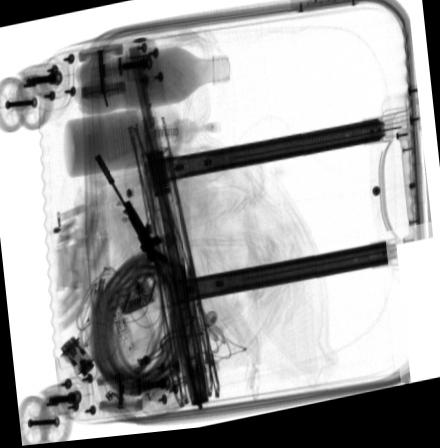Gun: (91, 151, 169, 265)
